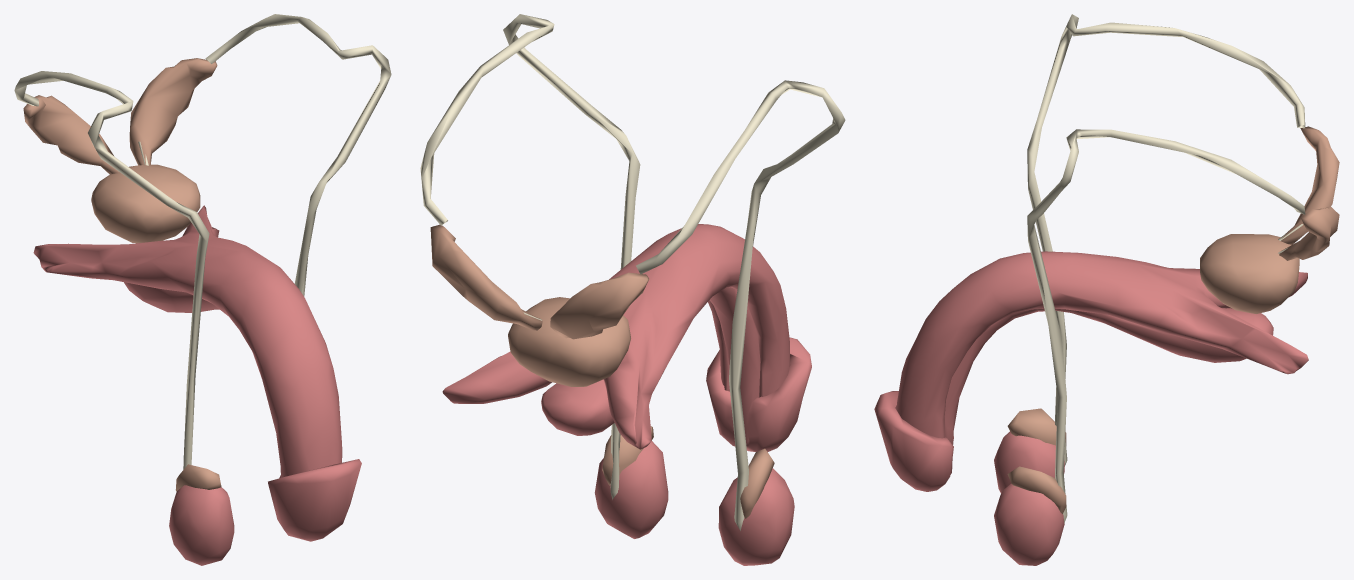
The model's file is adult_male.reproductive.LOD4.glb.
The picture shows the model from 3 angles, left to right: view 1: azimuth 30°, elevation 25°; view 2: azimuth 150°, elevation 25°; view 3: azimuth 270°, elevation 25°; orthographic projection. The views are drawn at different scales.
Parts seen in each view (by area): view 1: ADULT.MALE.REPRODUCTIVE.CORPUS_CAVERNOSUM_OF_PENIS, ADULT.MALE.REPRODUCTIVE.PROSTATE, ADULT.MALE.REPRODUCTIVE.DUCTUS_DEFERENS.R, ADULT.MALE.REPRODUCTIVE.GLANS_PENIS, ADULT.MALE.REPRODUCTIVE.SEMINAL_GLAND.L, ADULT.MALE.REPRODUCTIVE.DUCTUS_DEFERENS.L, ADULT.MALE.REPRODUCTIVE.TESTIS, ADULT.MALE.REPRODUCTIVE.SEMINAL_GLAND.R, ADULT.MALE.REPRODUCTIVE.CORPUS_SPONGIOSUM_OF_PENIS, ADULT.MALE.REPRODUCTIVE.EPIDIDYMIS.R; view 2: ADULT.MALE.REPRODUCTIVE.CORPUS_CAVERNOSUM_OF_PENIS, ADULT.MALE.REPRODUCTIVE.DUCTUS_DEFERENS.R, ADULT.MALE.REPRODUCTIVE.DUCTUS_DEFERENS.L, ADULT.MALE.REPRODUCTIVE.PROSTATE, ADULT.MALE.REPRODUCTIVE.CORPUS_SPONGIOSUM_OF_PENIS, ADULT.MALE.REPRODUCTIVE.GLANS_PENIS, ADULT.MALE.REPRODUCTIVE.TESTIS, ADULT.MALE.REPRODUCTIVE.TESTIS.L, ADULT.MALE.REPRODUCTIVE.SEMINAL_GLAND.L, ADULT.MALE.REPRODUCTIVE.SEMINAL_GLAND.R, ADULT.MALE.REPRODUCTIVE.EPIDIDYMIS.R, ADULT.MALE.REPRODUCTIVE.EPIDIDYMIS.L; view 3: ADULT.MALE.REPRODUCTIVE.CORPUS_CAVERNOSUM_OF_PENIS, ADULT.MALE.REPRODUCTIVE.PROSTATE, ADULT.MALE.REPRODUCTIVE.DUCTUS_DEFERENS.L, ADULT.MALE.REPRODUCTIVE.DUCTUS_DEFERENS.R, ADULT.MALE.REPRODUCTIVE.CORPUS_SPONGIOSUM_OF_PENIS, ADULT.MALE.REPRODUCTIVE.TESTIS.L, ADULT.MALE.REPRODUCTIVE.GLANS_PENIS, ADULT.MALE.REPRODUCTIVE.TESTIS, ADULT.MALE.REPRODUCTIVE.SEMINAL_GLAND.R, ADULT.MALE.REPRODUCTIVE.SEMINAL_GLAND.L, ADULT.MALE.REPRODUCTIVE.EPIDIDYMIS.R, ADULT.MALE.REPRODUCTIVE.EPIDIDYMIS.L.
Part boxes in pixels (box(x1,y1,x2,y2)): ADULT.MALE.REPRODUCTIVE.CORPUS_CAVERNOSUM_OF_PENIS: box(33, 205, 342, 477); ADULT.MALE.REPRODUCTIVE.PROSTATE: box(91, 164, 200, 243); ADULT.MALE.REPRODUCTIVE.DUCTUS_DEFERENS.R: box(14, 71, 209, 469); ADULT.MALE.REPRODUCTIVE.GLANS_PENIS: box(268, 459, 361, 541); ADULT.MALE.REPRODUCTIVE.SEMINAL_GLAND.L: box(129, 58, 217, 165); ADULT.MALE.REPRODUCTIVE.DUCTUS_DEFERENS.L: box(205, 14, 391, 296); ADULT.MALE.REPRODUCTIVE.TESTIS: box(169, 485, 234, 565); ADULT.MALE.REPRODUCTIVE.SEMINAL_GLAND.R: box(23, 95, 119, 174); ADULT.MALE.REPRODUCTIVE.CORPUS_SPONGIOSUM_OF_PENIS: box(124, 282, 219, 312); ADULT.MALE.REPRODUCTIVE.EPIDIDYMIS.R: box(175, 464, 221, 491); ADULT.MALE.REPRODUCTIVE.CORPUS_CAVERNOSUM_OF_PENIS: box(442, 224, 789, 449); ADULT.MALE.REPRODUCTIVE.DUCTUS_DEFERENS.R: box(636, 80, 845, 530); ADULT.MALE.REPRODUCTIVE.DUCTUS_DEFERENS.L: box(420, 14, 640, 499); ADULT.MALE.REPRODUCTIVE.PROSTATE: box(508, 297, 630, 386); ADULT.MALE.REPRODUCTIVE.CORPUS_SPONGIOSUM_OF_PENIS: box(541, 287, 760, 447); ADULT.MALE.REPRODUCTIVE.GLANS_PENIS: box(706, 337, 811, 451); ADULT.MALE.REPRODUCTIVE.TESTIS: box(718, 468, 794, 565); ADULT.MALE.REPRODUCTIVE.TESTIS.L: box(594, 441, 668, 538); ADULT.MALE.REPRODUCTIVE.SEMINAL_GLAND.L: box(430, 224, 542, 330); ADULT.MALE.REPRODUCTIVE.SEMINAL_GLAND.R: box(550, 272, 648, 339); ADULT.MALE.REPRODUCTIVE.EPIDIDYMIS.R: box(740, 448, 774, 518); ADULT.MALE.REPRODUCTIVE.EPIDIDYMIS.L: box(602, 426, 653, 485); ADULT.MALE.REPRODUCTIVE.CORPUS_CAVERNOSUM_OF_PENIS: box(896, 251, 1308, 438); ADULT.MALE.REPRODUCTIVE.PROSTATE: box(1200, 234, 1299, 313); ADULT.MALE.REPRODUCTIVE.DUCTUS_DEFERENS.L: box(1027, 129, 1305, 523); ADULT.MALE.REPRODUCTIVE.DUCTUS_DEFERENS.R: box(1027, 14, 1305, 466); ADULT.MALE.REPRODUCTIVE.CORPUS_SPONGIOSUM_OF_PENIS: box(944, 308, 1273, 474); ADULT.MALE.REPRODUCTIVE.TESTIS.L: box(994, 483, 1064, 565); ADULT.MALE.REPRODUCTIVE.GLANS_PENIS: box(874, 391, 953, 491); ADULT.MALE.REPRODUCTIVE.TESTIS: box(994, 431, 1064, 493); ADULT.MALE.REPRODUCTIVE.SEMINAL_GLAND.R: box(1281, 126, 1339, 244); ADULT.MALE.REPRODUCTIVE.SEMINAL_GLAND.L: box(1279, 206, 1339, 260); ADULT.MALE.REPRODUCTIVE.EPIDIDYMIS.R: box(1007, 408, 1066, 445); ADULT.MALE.REPRODUCTIVE.EPIDIDYMIS.L: box(1007, 466, 1066, 513).
Bounding box in the file's own units: 0.113 × 0.1657 × 0.1512.
